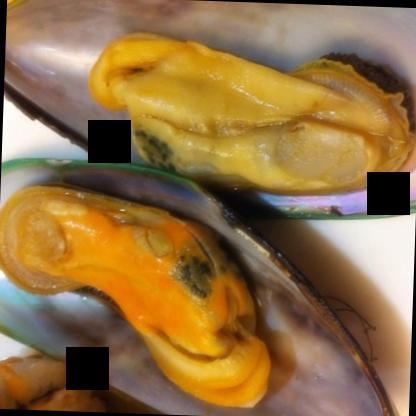mussel: (0, 152, 415, 415), (0, 0, 415, 229)
